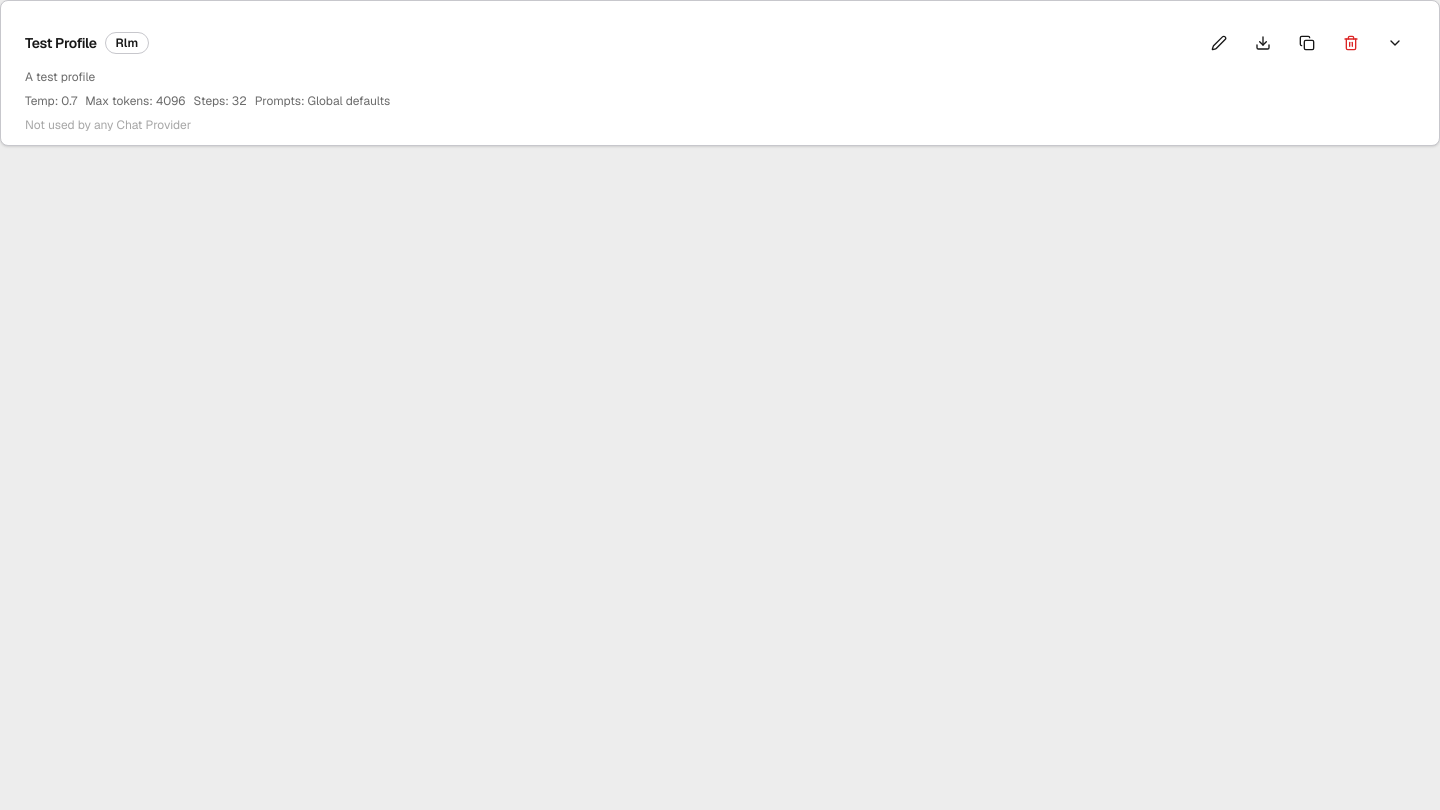
Test: ProfileCard — editing form › Cancel closes the edit form
Click the button named "edit": {"x": 1219, "y": 43} x1=1199 y1=25 x2=1239 y2=61
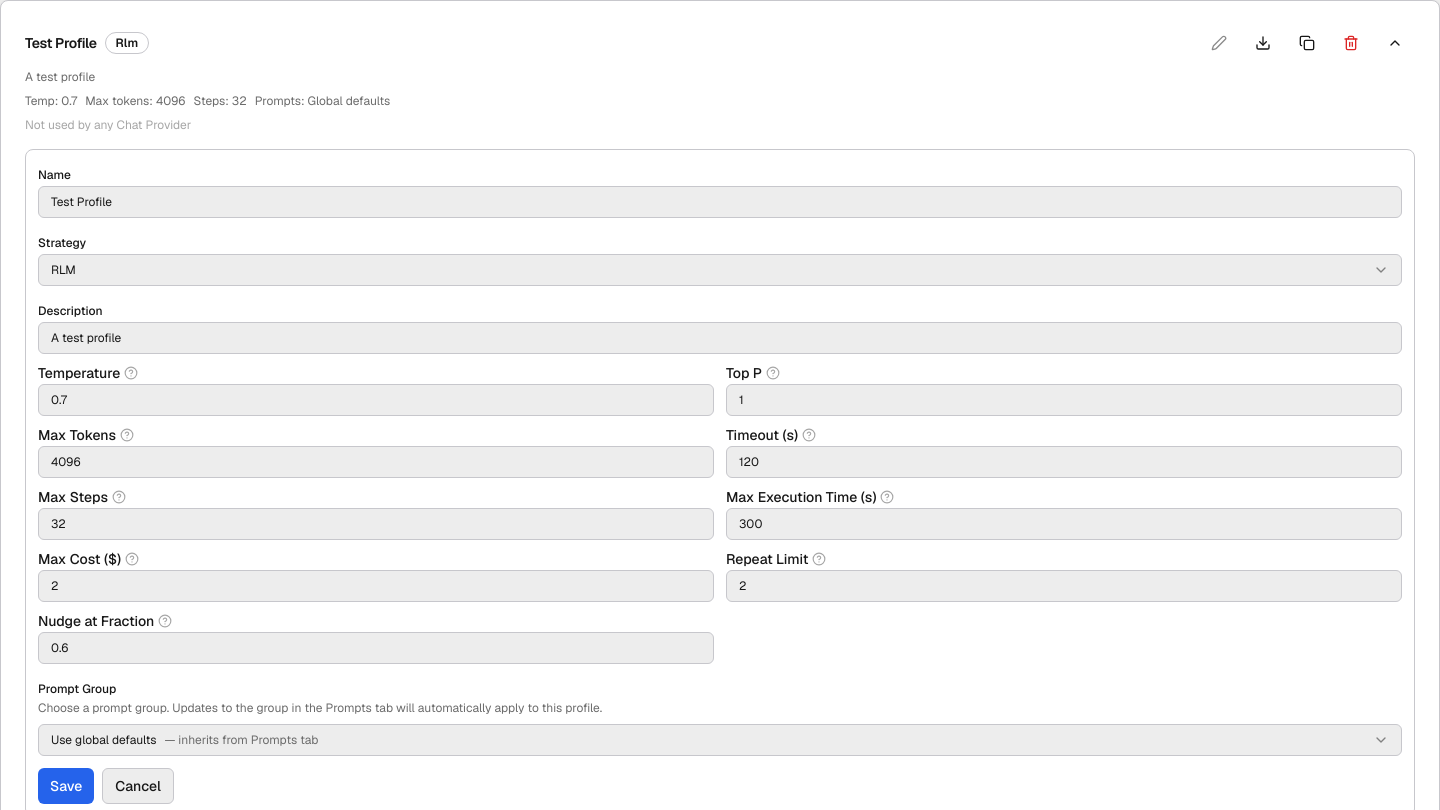
Click the button "Cancel": {"x": 138, "y": 786} x1=102 y1=768 x2=174 y2=804
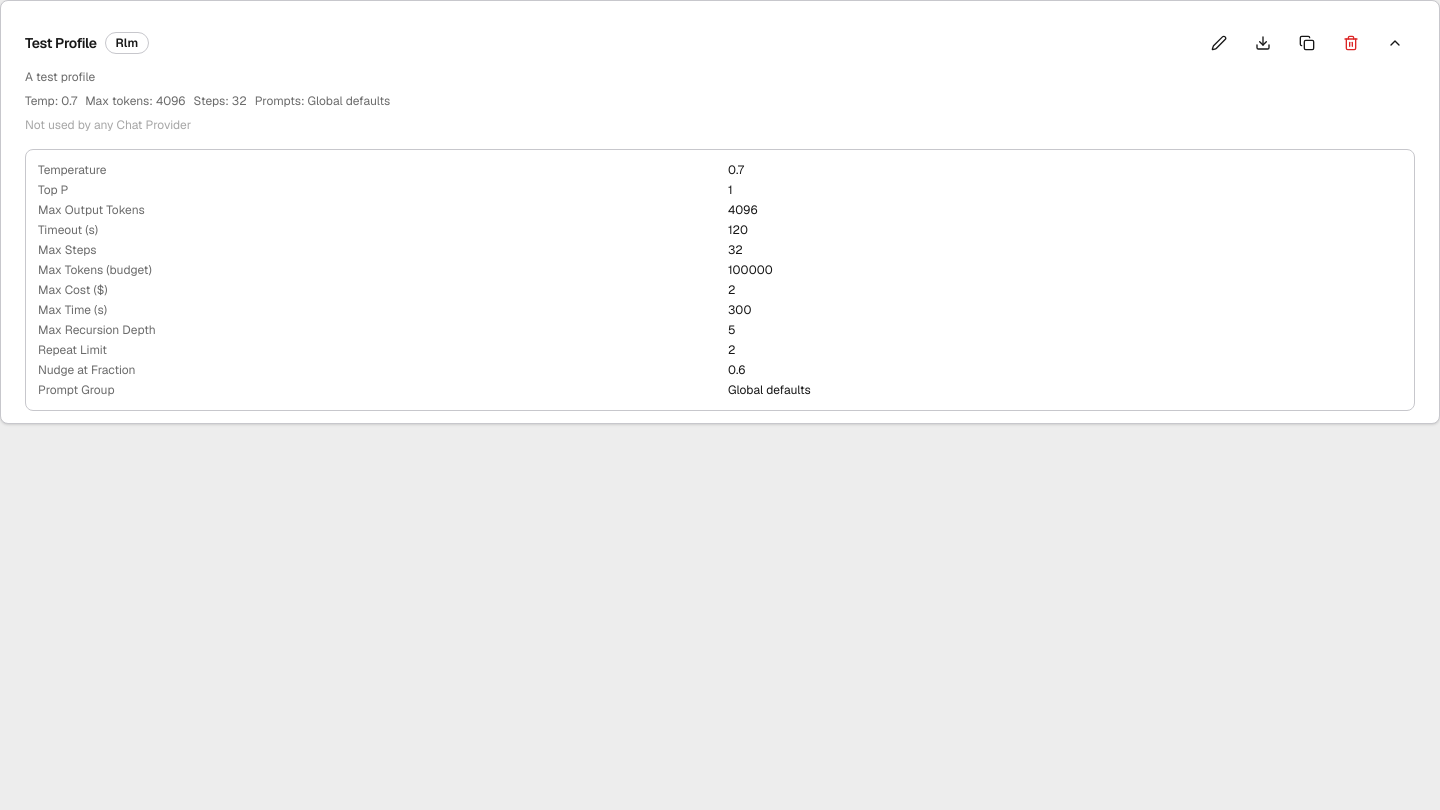
Expected: the button "Save" is gone
